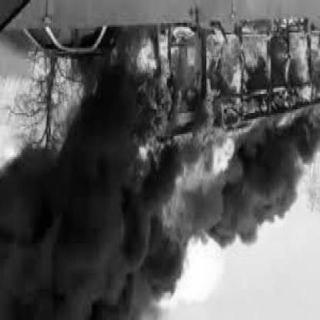Fire: (121, 19, 318, 247), (105, 44, 119, 72)
Smoke: (1, 103, 160, 319), (194, 134, 316, 250)
